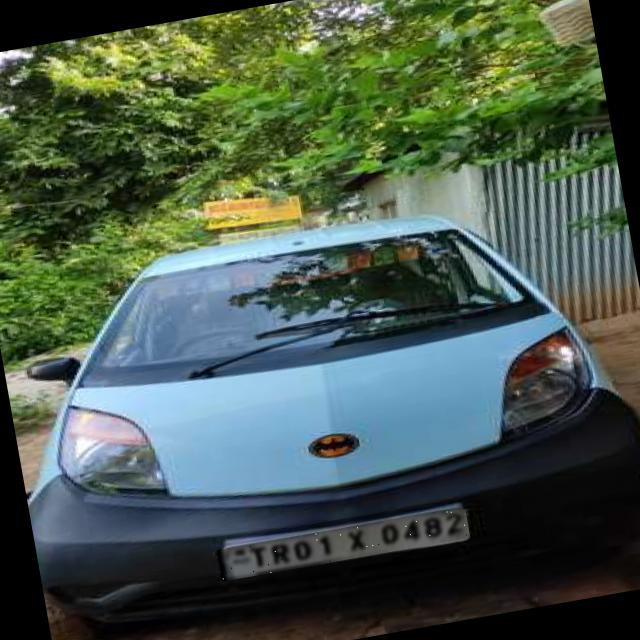Plate: (217, 507, 469, 582)
